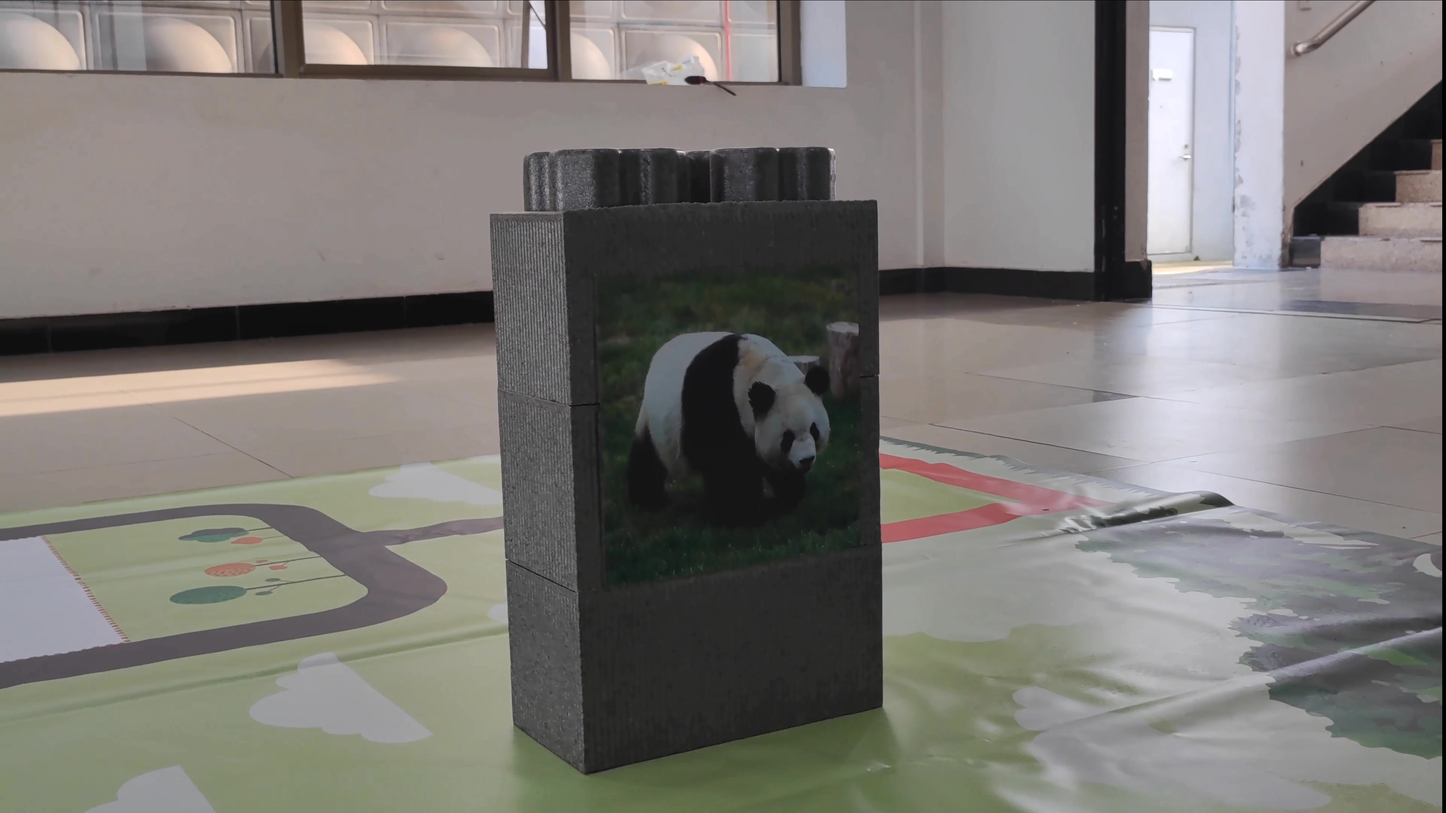panda: (622, 298, 856, 520)
